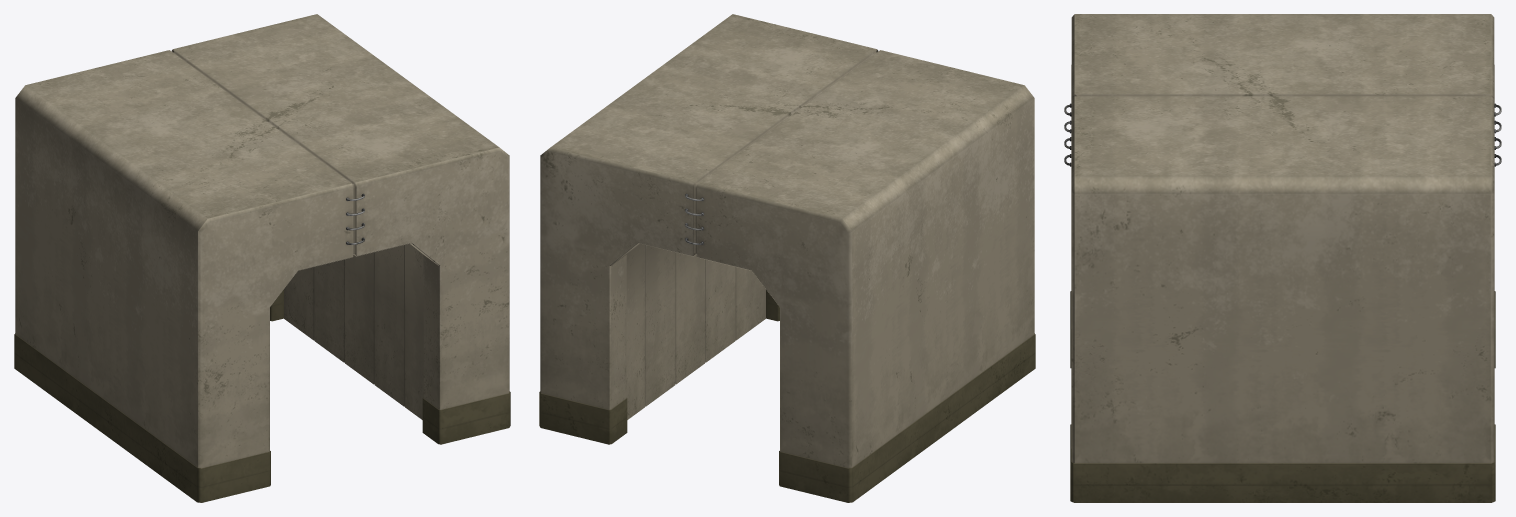
File: simple_tunnel.glb
3 renders of one model, left to right at view 1: azimuth 30°, elevation 25°; view 2: azimuth 150°, elevation 25°; view 3: azimuth 270°, elevation 25°, orthographic. The views are drawn at different scales.
Parts seen in each view (by area): view 1: SM_TunnelSimple; view 2: SM_TunnelSimple; view 3: SM_TunnelSimple.
Boxes of the visible parts, bbox=[...] form: SM_TunnelSimple: bbox=[14, 14, 510, 502]; SM_TunnelSimple: bbox=[539, 14, 1035, 502]; SM_TunnelSimple: bbox=[1064, 14, 1501, 502].
Size of the model in its own units: 5.31 by 4.55 by 5.62.
Materials: 1 (1 with a texture image).
